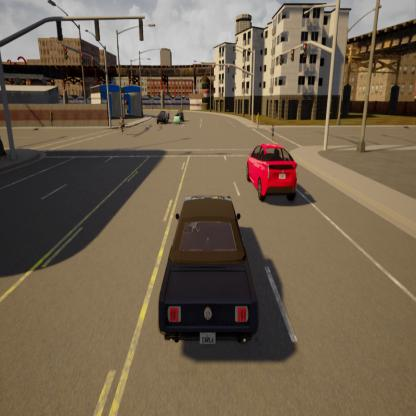Cars: (157, 193, 260, 353), (244, 141, 301, 207), (116, 112, 130, 137), (158, 109, 168, 126), (174, 112, 182, 124)
Pedestrian: (270, 119, 276, 139)
